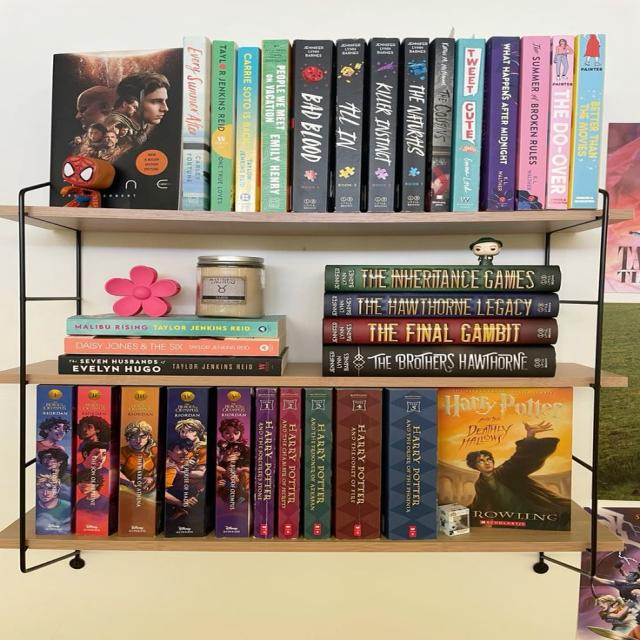book: (50, 48, 183, 209), (439, 388, 571, 529), (290, 40, 334, 212), (388, 390, 438, 540), (480, 37, 520, 211), (324, 344, 556, 374), (335, 389, 380, 539), (169, 385, 213, 536), (325, 290, 558, 318), (515, 36, 550, 209), (120, 387, 160, 538), (324, 317, 561, 342), (365, 38, 399, 212), (75, 386, 114, 537), (450, 38, 483, 211), (326, 265, 562, 289), (215, 387, 252, 538), (178, 37, 210, 209), (37, 385, 74, 533), (544, 35, 575, 209), (334, 39, 365, 212), (260, 40, 290, 211), (424, 38, 453, 211), (400, 38, 428, 211), (210, 41, 236, 211), (304, 388, 333, 540), (576, 34, 600, 208), (234, 46, 259, 211), (59, 356, 283, 374), (67, 318, 279, 336), (279, 389, 300, 539), (62, 340, 277, 354), (254, 388, 274, 538)
candle: (191, 253, 271, 320)
